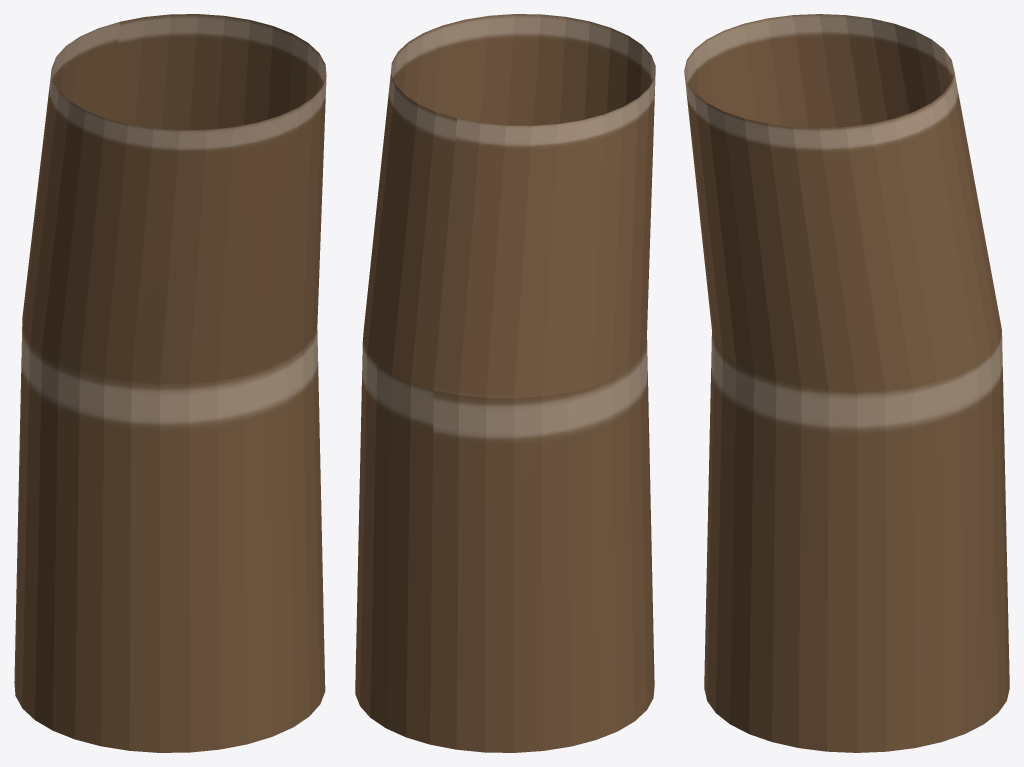
The model's file is Palmera Bottom 1.obj.
3 views of the same model, side by side, from view 1: azimuth 30°, elevation 25°; view 2: azimuth 150°, elevation 25°; view 3: azimuth 270°, elevation 25° (orthographic). The views are drawn at different scales.
Visible parts, largest first — view 1: Palmera_D2.1_Cilindro.002; view 2: Palmera_D2.1_Cilindro.002; view 3: Palmera_D2.1_Cilindro.002.
Boxes of the visible parts, box(x1,y1,x2,y2) form: Palmera_D2.1_Cilindro.002: box(14, 14, 326, 752); Palmera_D2.1_Cilindro.002: box(355, 14, 655, 752); Palmera_D2.1_Cilindro.002: box(684, 14, 1009, 752).
Bounding box in the file's own units: 0.4753 × 1.06 × 0.5064.
1 material, 1 textured.
